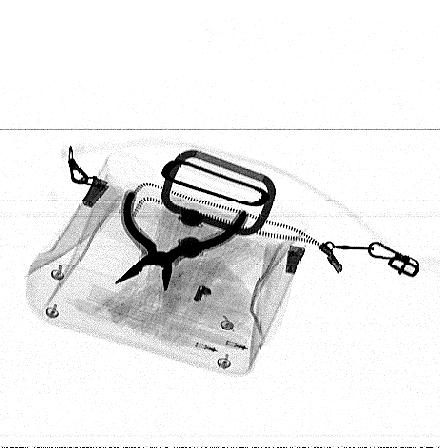Pliers: (115, 189, 249, 291)
